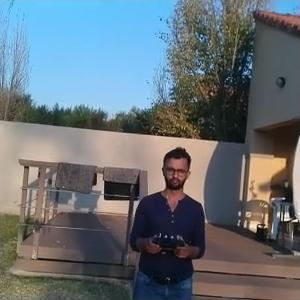follow: (122, 140, 209, 298)
